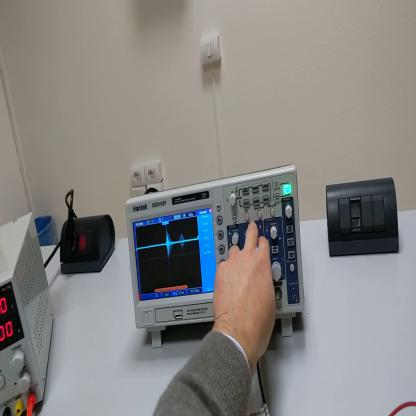hand: (212, 219, 277, 365)
oscilloscope: (124, 159, 306, 349)
power supply: (1, 212, 57, 416)
socket: (55, 215, 117, 274)
